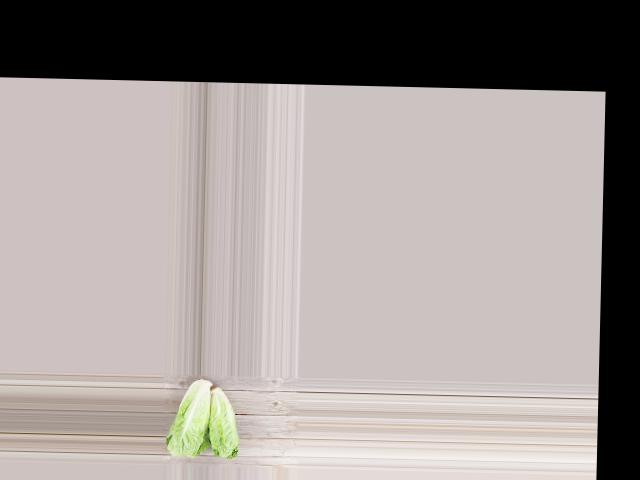lettuce: (164, 374, 212, 460)
